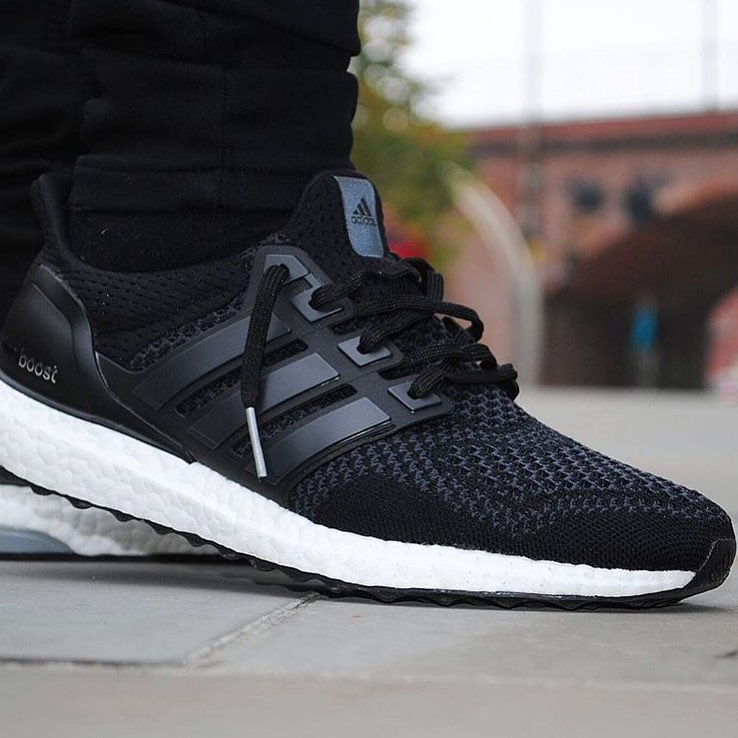sneaker: (1, 74, 736, 624)
